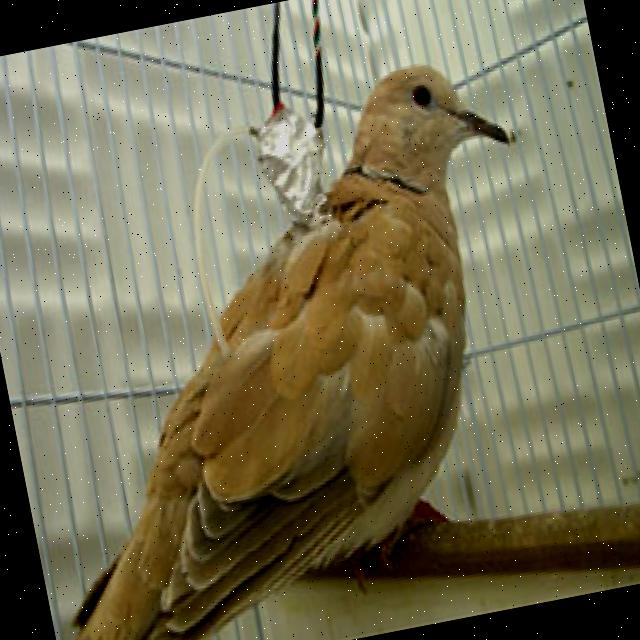dove: (0, 41, 601, 640)
